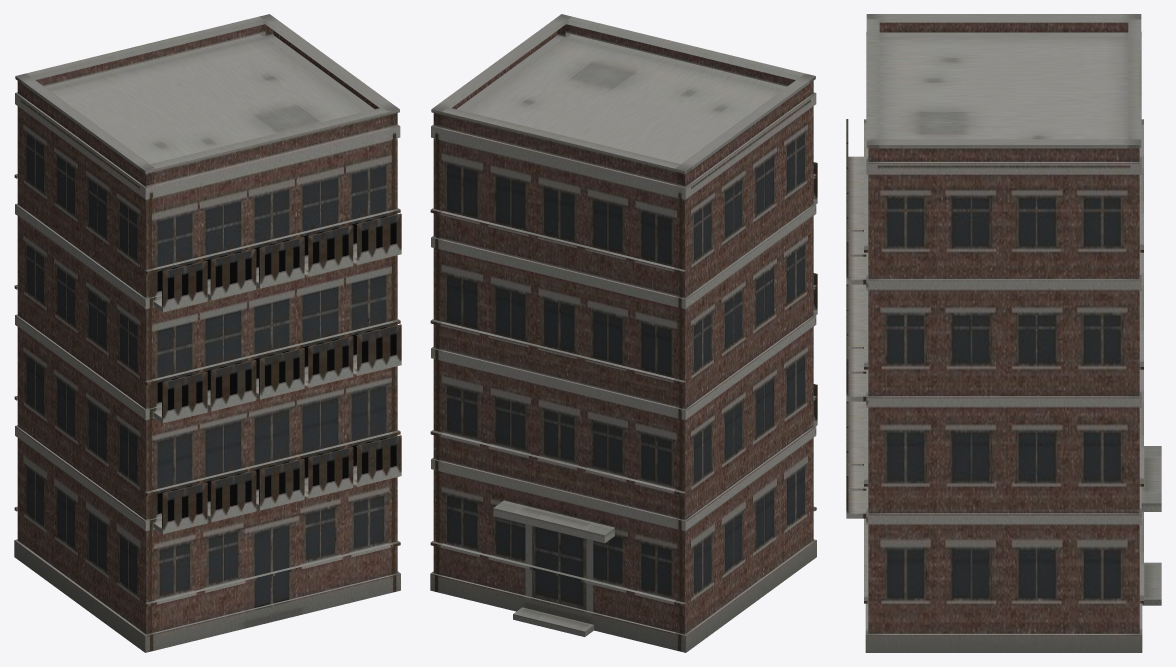
Rendered from b_apartment_far.glb.
The picture shows the model from 3 angles, left to right: view 1: azimuth 30°, elevation 25°; view 2: azimuth 150°, elevation 25°; view 3: azimuth 270°, elevation 25°; orthographic projection. The views are drawn at different scales.
Parts seen in each view (by area): view 1: b_apartment_far; view 2: b_apartment_far; view 3: b_apartment_far.
Part boxes in pixels (x1,y1,x2,y2): b_apartment_far: (14, 14, 401, 652); b_apartment_far: (430, 14, 817, 652); b_apartment_far: (846, 14, 1161, 652).
Bounding box in the file's own units: 7.12 × 12.8 × 7.2.
Materials: 1 (1 with a texture image).
